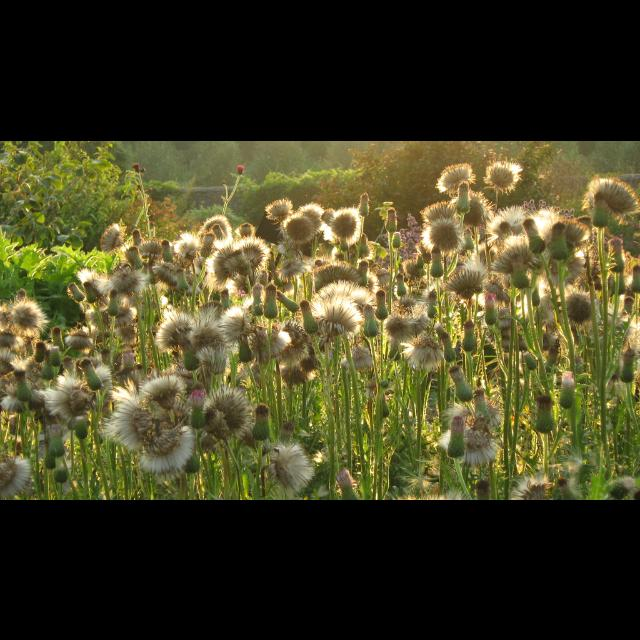Flower: (1, 164, 640, 498), (263, 434, 317, 486)
